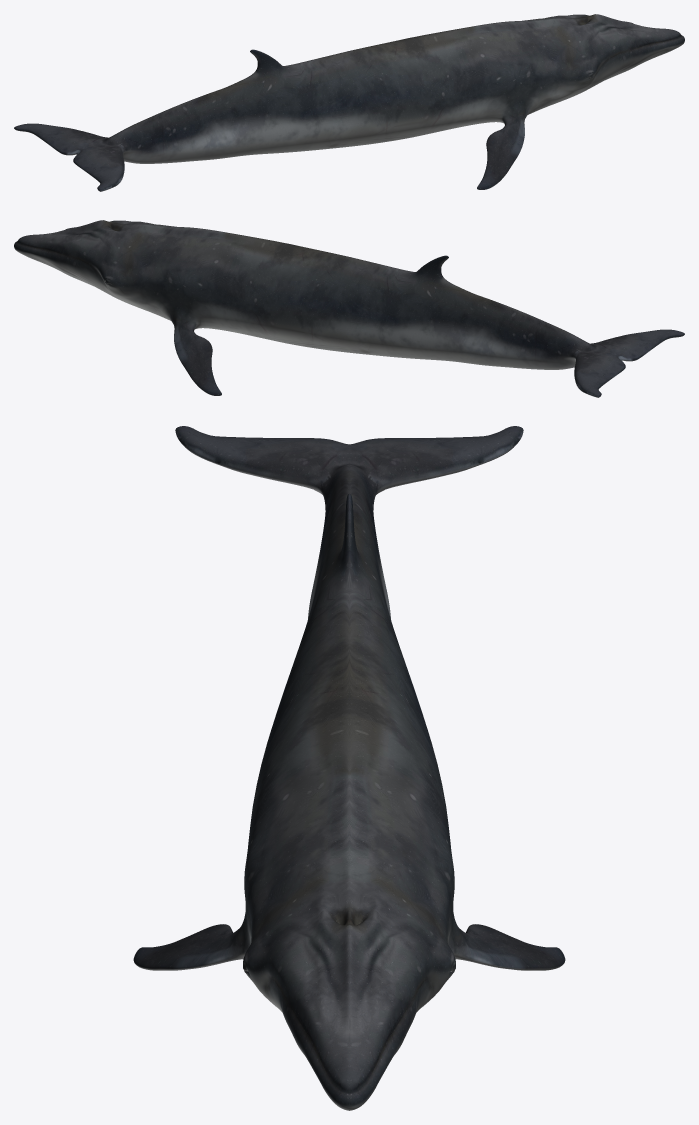
The model's file is model-cetacean-balaenoptera-edeni-v0677.glb.
The picture shows the model from 3 angles, top to bottom: view 1: azimuth 30°, elevation 25°; view 2: azimuth 150°, elevation 25°; view 3: azimuth 270°, elevation 25°; orthographic projection. The views are drawn at different scales.
Parts seen in each view (by area): view 1: balaenoptera-edeni source-derived exterior; view 2: balaenoptera-edeni source-derived exterior; view 3: balaenoptera-edeni source-derived exterior.
Boxes of the visible parts, x1,y1,x2,y2 form: balaenoptera-edeni source-derived exterior: (14,14,684,191); balaenoptera-edeni source-derived exterior: (14,220,684,397); balaenoptera-edeni source-derived exterior: (133,426,565,1110).
Size of the model in its own units: 3.84 by 0.8461 by 1.14.
1 material, 1 textured.
